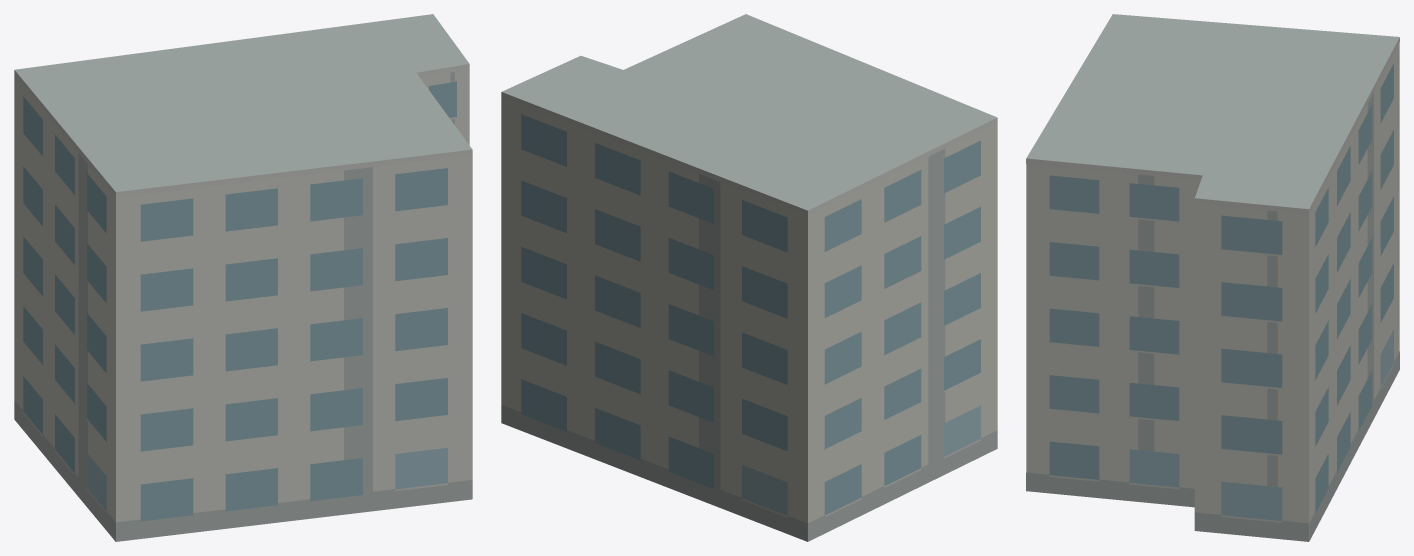
File: survey-upis-32901520.glb
3 renders of one model, left to right at view 1: azimuth 30°, elevation 25°; view 2: azimuth 150°, elevation 25°; view 3: azimuth 270°, elevation 25°, orthographic. The views are drawn at different scales.
Visible parts, largest first — view 1: survey-upis-32901520.tmp; view 2: survey-upis-32901520.tmp; view 3: survey-upis-32901520.tmp.
Part boxes in pixels (left/top/right/bottom): survey-upis-32901520.tmp: left=14, top=14, right=472, bottom=541; survey-upis-32901520.tmp: left=501, top=14, right=997, bottom=541; survey-upis-32901520.tmp: left=1026, top=14, right=1399, bottom=541.
Bounding box in the file's own units: 19.2 × 15.25 × 15.53.
